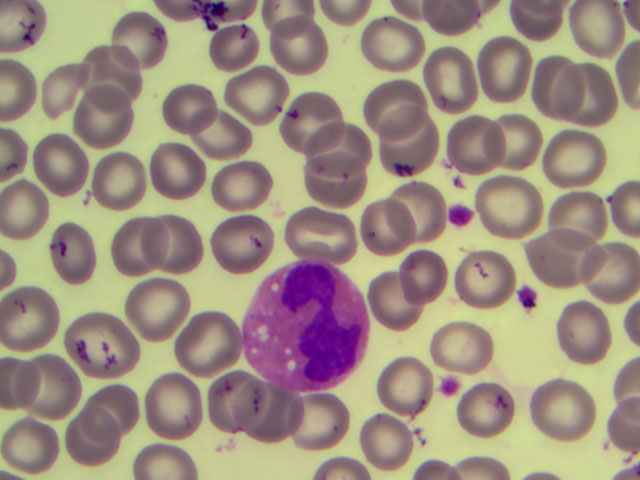Platelets: (509, 282, 539, 310), (445, 202, 476, 228), (439, 373, 462, 403)
RBC: (84, 47, 143, 106), (35, 54, 94, 113), (79, 93, 138, 152), (108, 7, 167, 66), (149, 76, 208, 135), (198, 114, 257, 173), (146, 141, 205, 200), (95, 152, 154, 211), (41, 131, 100, 190), (1, 182, 60, 241), (41, 220, 100, 279), (96, 216, 155, 275), (144, 212, 203, 271), (127, 277, 186, 336), (73, 318, 132, 377), (1, 284, 60, 343), (26, 354, 85, 413), (50, 411, 109, 470), (87, 374, 146, 433), (141, 376, 200, 435), (170, 314, 229, 373), (216, 373, 275, 432), (240, 380, 299, 439), (280, 388, 339, 447), (354, 410, 413, 469), (381, 356, 440, 415), (434, 313, 493, 372), (369, 274, 428, 333), (391, 249, 450, 308), (351, 195, 410, 254), (390, 175, 449, 234), (281, 205, 340, 264), (204, 221, 263, 280), (220, 158, 279, 217), (267, 92, 326, 151), (223, 64, 282, 123), (204, 16, 263, 75), (267, 14, 326, 73), (314, 117, 373, 176), (296, 152, 355, 211), (383, 112, 442, 171), (362, 82, 421, 141), (366, 23, 425, 82), (428, 43, 487, 102), (475, 30, 534, 89), (526, 57, 585, 116), (555, 56, 614, 115), (542, 127, 601, 186), (498, 110, 557, 169), (453, 115, 512, 174), (479, 176, 538, 235), (543, 178, 602, 237), (543, 228, 602, 287), (579, 236, 638, 295), (562, 300, 621, 359), (529, 377, 588, 436), (458, 386, 517, 445), (1, 402, 59, 461)
WBC: (249, 260, 369, 384)
